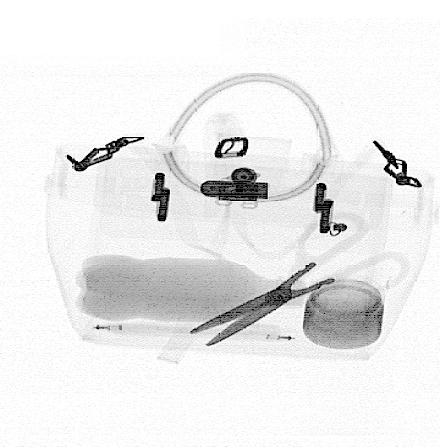Scissors: (181, 212, 415, 349)
